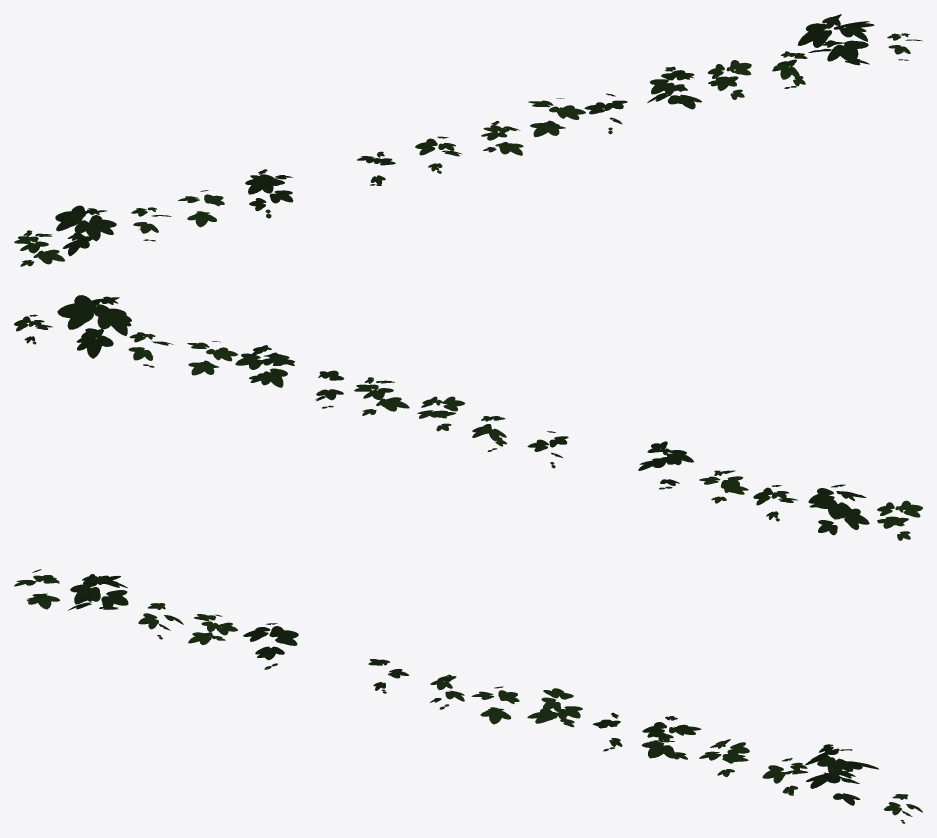
Rendered from ROW_21_SEG0_foliage.dae.
3 views of the same model, one above another, from view 1: azimuth 30°, elevation 25°; view 2: azimuth 150°, elevation 25°; view 3: azimuth 330°, elevation 25° (orthographic).
Parts seen in each view (by area): view 1: ROW_21_SEG0_foliage; view 2: ROW_21_SEG0_foliage; view 3: ROW_21_SEG0_foliage.
Part boxes in pixels (bbox=[...]): ROW_21_SEG0_foliage: bbox=[14, 14, 922, 266]; ROW_21_SEG0_foliage: bbox=[14, 295, 922, 540]; ROW_21_SEG0_foliage: bbox=[14, 569, 922, 823].
Size of the model in its own units: 4.78 by 0.3668 by 0.3037.
